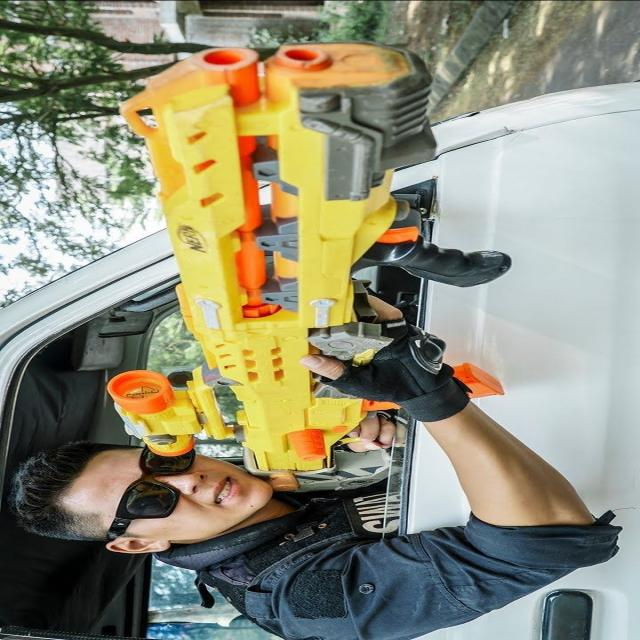Nerf gun: (101, 25, 519, 490)
